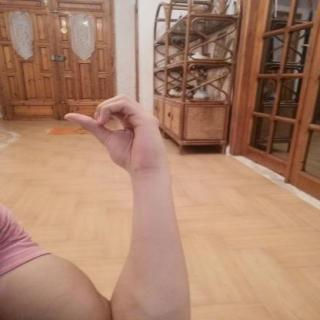WAW: (55, 88, 173, 177)
